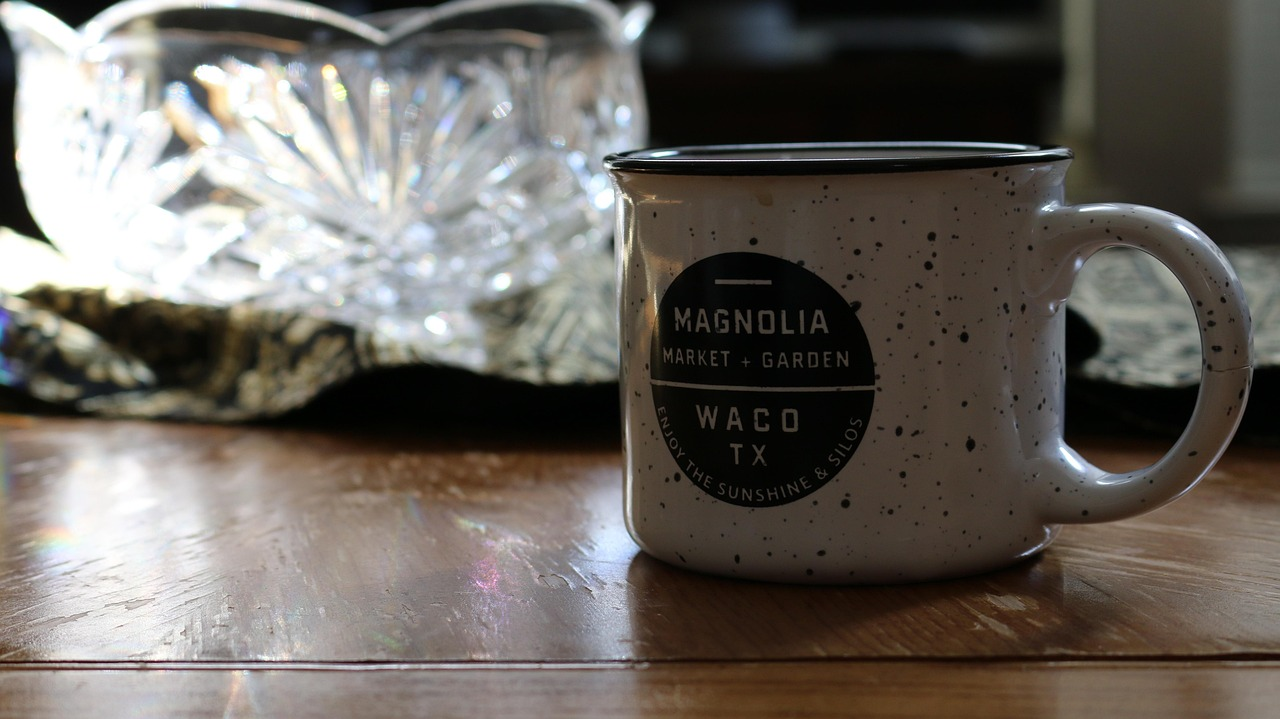mug: (580, 97, 1250, 650)
